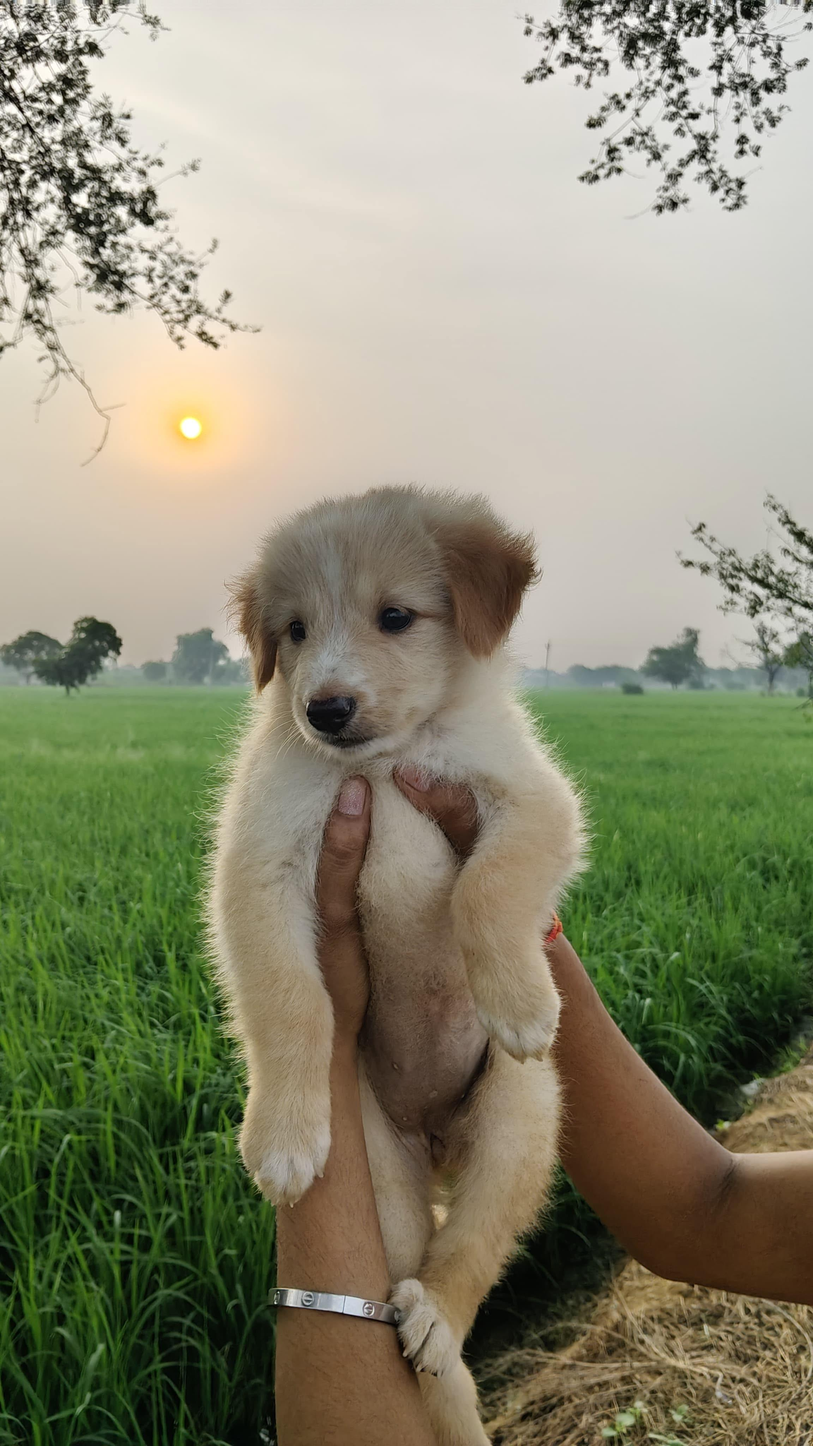puppy-dog: (195, 481, 594, 1446)
